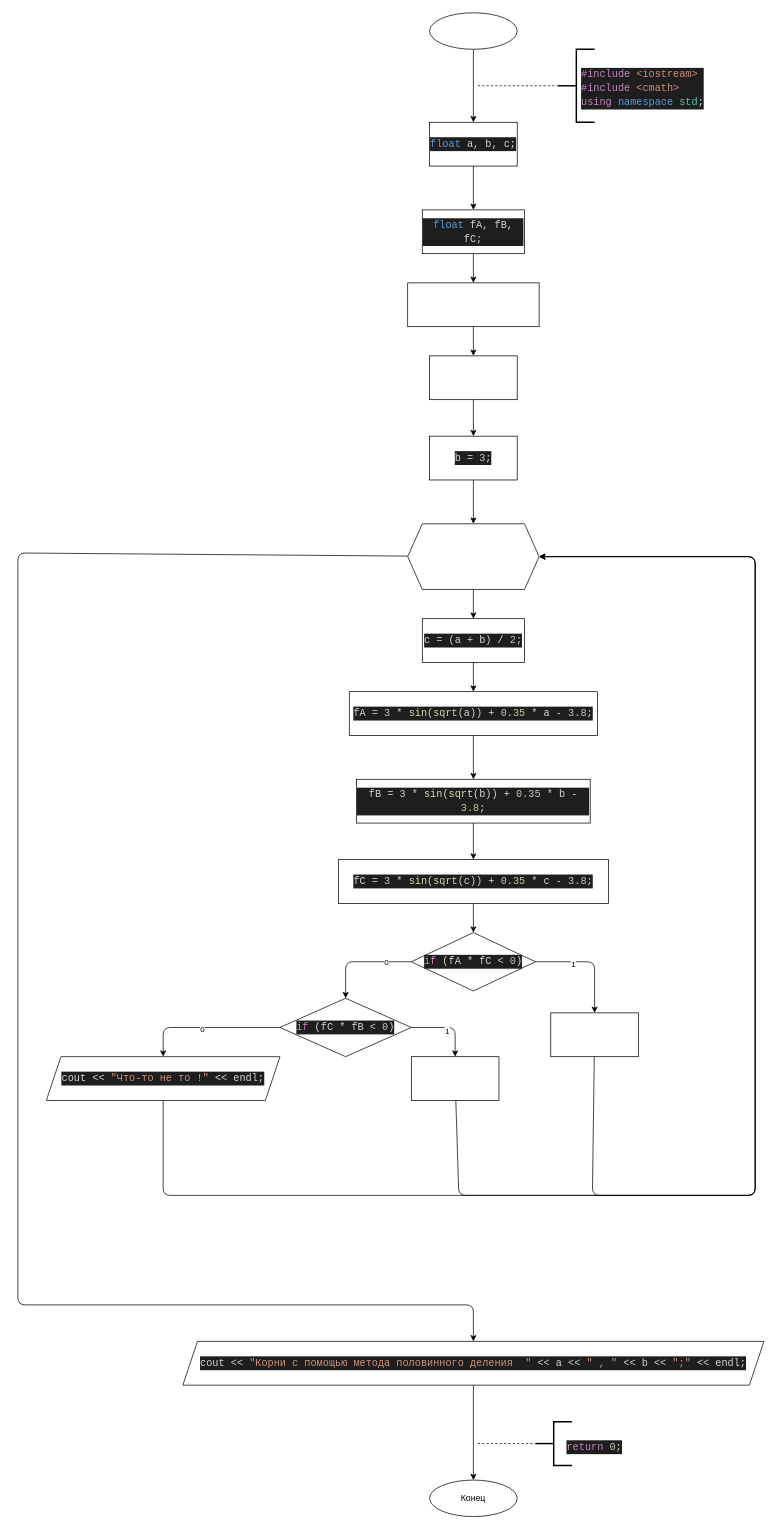
Some shapes in this 777 by 1529 pixel diagram are drawn without their labels. The shapes that lost their labels are listed below. From the top down, each one's centre as x and y in pixels, then its label:
At [473,30]: "Начало".
At [473,304]: "double eps = 0.000001 ;".
At [473,377]: "a = 2 ;".
At [473,556]: "while (b - a > eps)".
At [594,1034]: "b = c;".
At [455,1078]: "a = c;".
